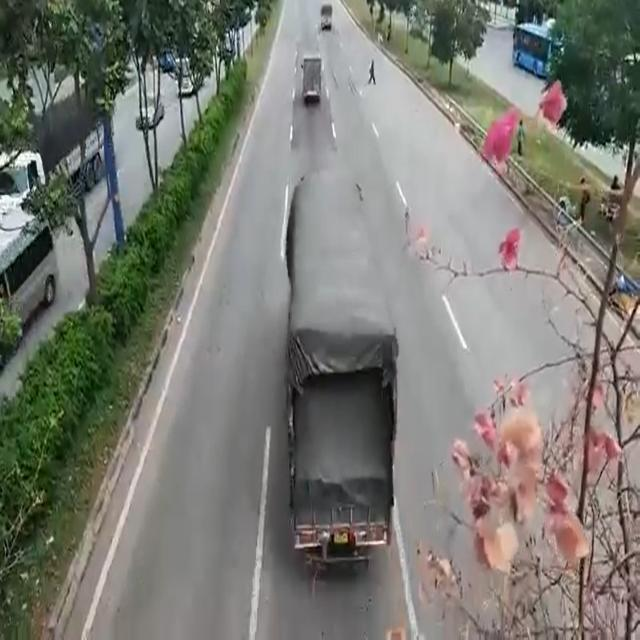truck: (300, 46, 324, 114)
